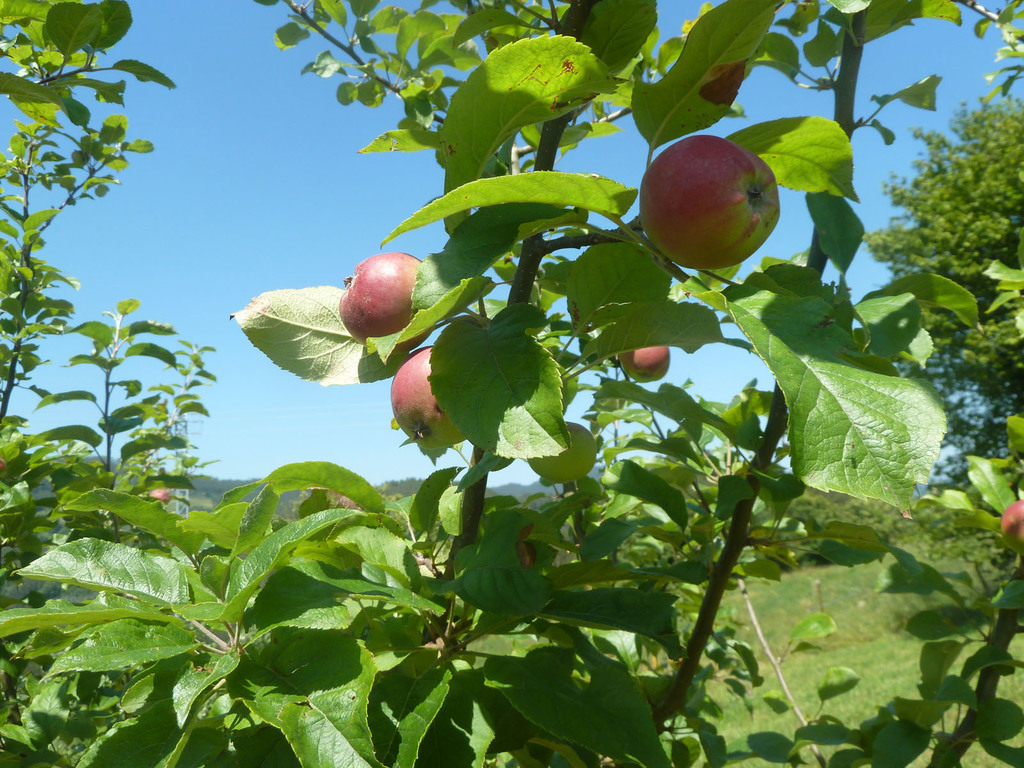Apple: (636, 129, 780, 268), (339, 254, 440, 351), (389, 348, 468, 449), (620, 344, 672, 383), (999, 498, 1023, 543), (147, 487, 174, 505)
